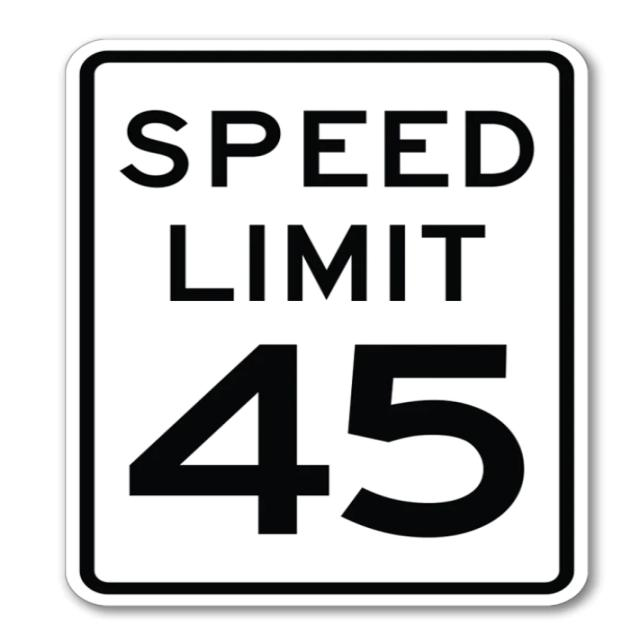speedLimit45: (87, 56, 570, 590)
